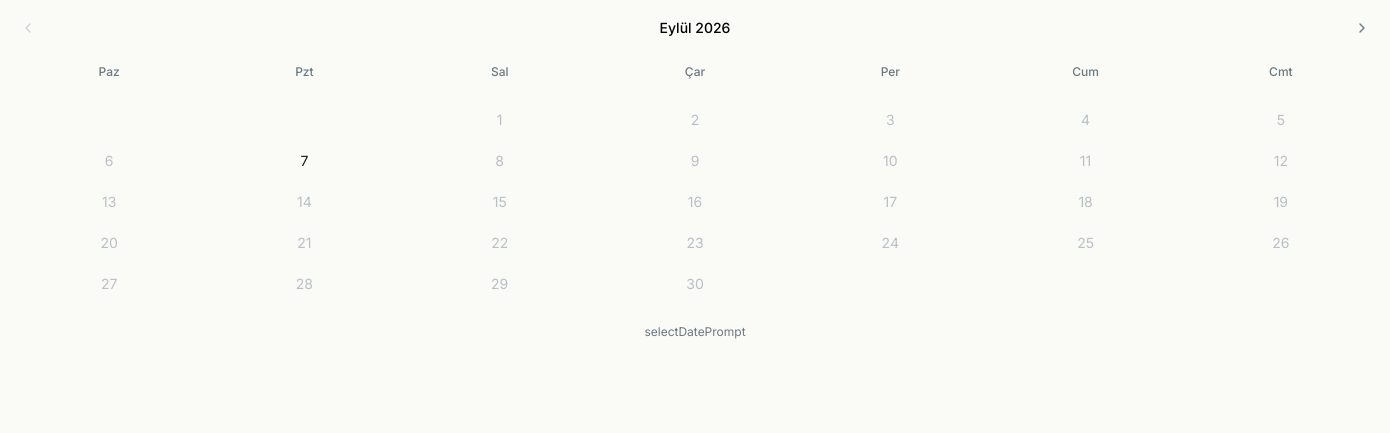
CalendarPicker — İstanbul saati (TZ != Europe/Istanbul) › İstanbul saati DOM'da GÖRÜNÜR (sr-only değil), listenin altında bir kez
The width and height of the screenshot is (1390, 433).
Click the button named "7 Eylül" at (304, 161), box [286,143,322,179]
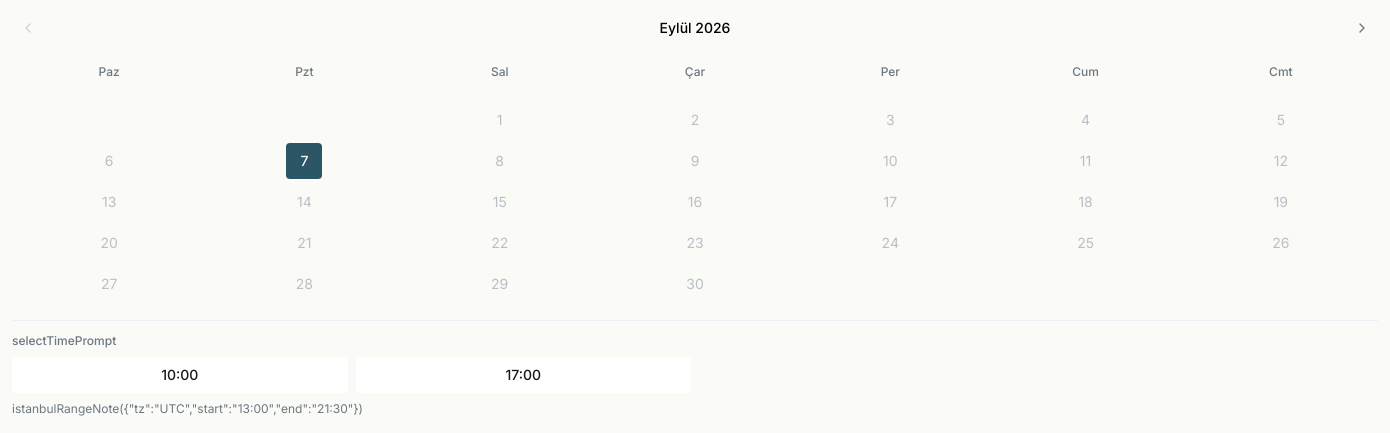
Check: the text "istanbulRangeNote" is shown once, box [12,401,363,416]
